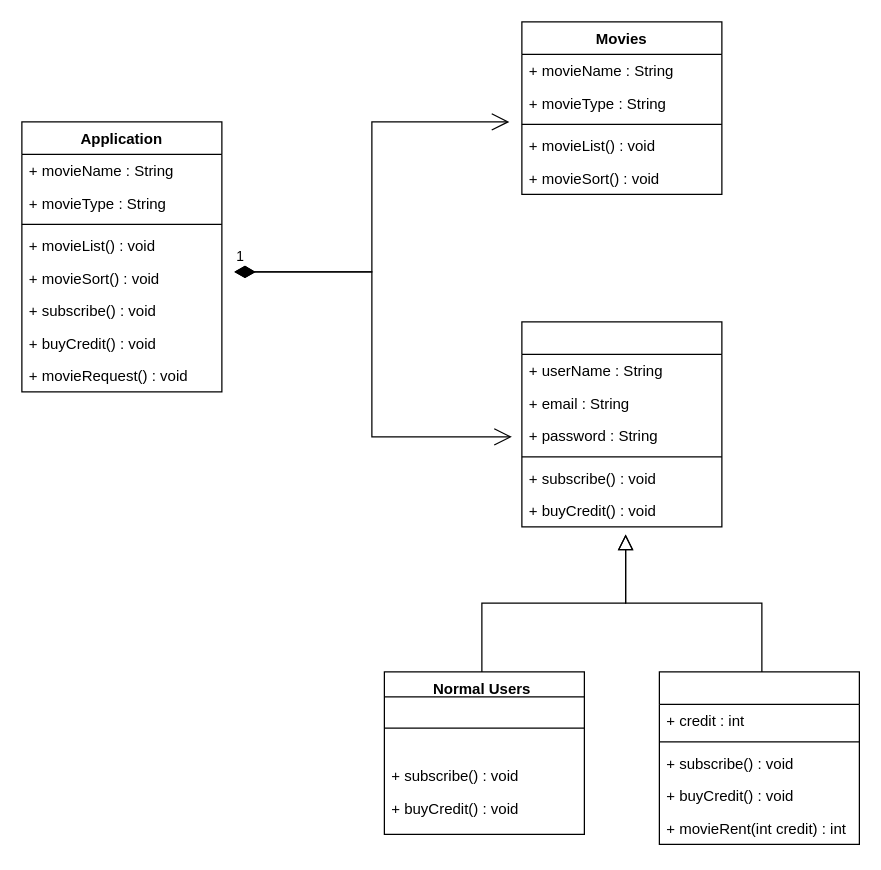
Some shapes in this 881 by 870 pixel diagram are drawn without their labels. Each missing label, with the box of its shape:
Subscribed Users: (658, 671, 859, 844)
Users: (521, 321, 722, 527)
